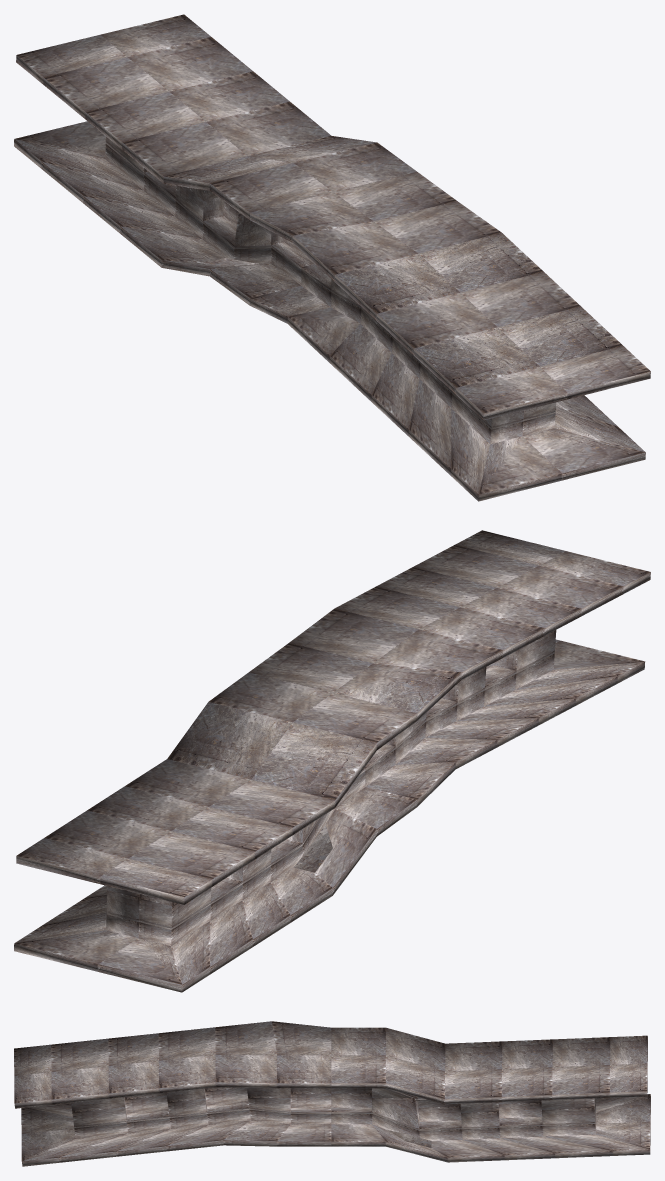
File: frag44.fbx
3 renders of one model, top to bottom at view 1: azimuth 30°, elevation 25°; view 2: azimuth 150°, elevation 25°; view 3: azimuth 270°, elevation 25°, orthographic. The views are drawn at different scales.
Parts seen in each view (by area): view 1: Cube; view 2: Cube; view 3: Cube.
Part boxes in pixels (<box>): Cube: <box>14,14,650,501</box>; Cube: <box>14,530,650,992</box>; Cube: <box>14,1021,650,1166</box>.
Size of the model in its own units: 1.64 by 1.21 by 7.79.
Materials: 1 (1 with a texture image).
